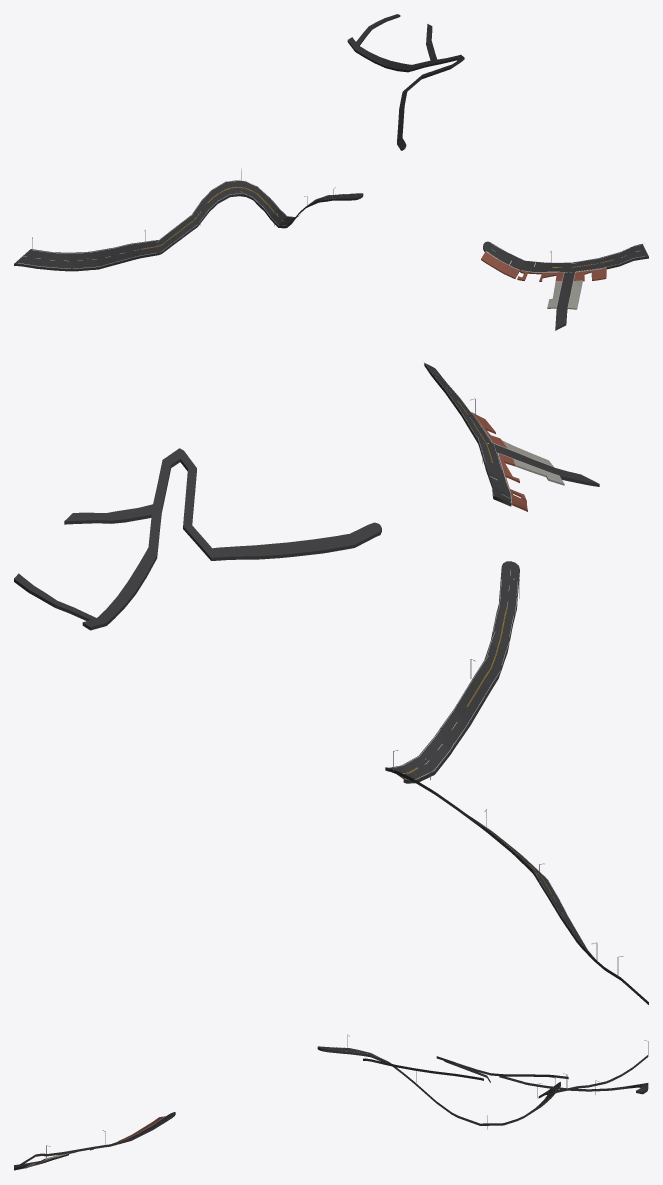
3 renders of one model, top to bottom at view 1: azimuth 30°, elevation 25°; view 2: azimuth 150°, elevation 25°; view 3: azimuth 270°, elevation 25°, orthographic. The views are drawn at different scales.
Bounding box in the file's own units: 252 × 116 × 292.
